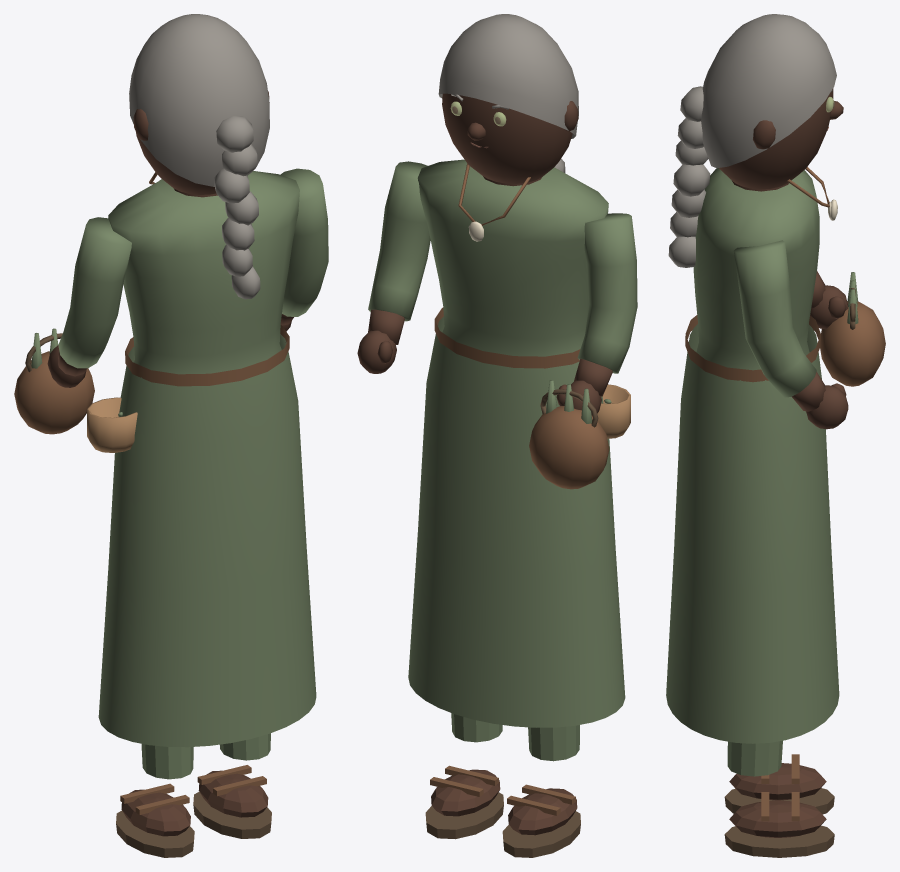
Rendered from SM_NPC_ALGA.glb.
The picture shows the model from 3 angles, left to right: view 1: azimuth 30°, elevation 25°; view 2: azimuth 150°, elevation 25°; view 3: azimuth 270°, elevation 25°; orthographic projection.
Visible parts, largest first — view 1: SM_NPC_ALGA_BODY, SM_NPC_ALGA_HAIR, SM_NPC_ALGA_ARM_L, SM_NPC_ALGA_LEG_L, SM_NPC_ALGA_LEG_R, SM_NPC_ALGA_ARM_R, SM_NPC_ALGA_HEAD; view 2: SM_NPC_ALGA_BODY, SM_NPC_ALGA_ARM_L, SM_NPC_ALGA_HAIR, SM_NPC_ALGA_ARM_R, SM_NPC_ALGA_HEAD, SM_NPC_ALGA_LEG_L, SM_NPC_ALGA_LEG_R; view 3: SM_NPC_ALGA_BODY, SM_NPC_ALGA_HAIR, SM_NPC_ALGA_ARM_R, SM_NPC_ALGA_LEG_R, SM_NPC_ALGA_ARM_L, SM_NPC_ALGA_HEAD, SM_NPC_ALGA_LEG_L.
Part boxes in pixels (x1=…): SM_NPC_ALGA_BODY: x1=87, y1=171, x2=316, y2=747; SM_NPC_ALGA_HAIR: x1=129, y1=14, x2=269, y2=299; SM_NPC_ALGA_ARM_L: x1=14, y1=217, x2=131, y2=434; SM_NPC_ALGA_LEG_L: x1=116, y1=744, x2=194, y2=857; SM_NPC_ALGA_LEG_R: x1=193, y1=733, x2=271, y2=838; SM_NPC_ALGA_ARM_R: x1=280, y1=168, x2=328, y2=331; SM_NPC_ALGA_HEAD: x1=133, y1=91, x2=269, y2=194; SM_NPC_ALGA_BODY: x1=408, y1=159, x2=630, y2=727; SM_NPC_ALGA_ARM_L: x1=529, y1=213, x2=637, y2=489; SM_NPC_ALGA_HAIR: x1=438, y1=14, x2=578, y2=172; SM_NPC_ALGA_ARM_R: x1=357, y1=161, x2=430, y2=373; SM_NPC_ALGA_HEAD: x1=442, y1=93, x2=578, y2=183; SM_NPC_ALGA_LEG_L: x1=502, y1=725, x2=580, y2=857; SM_NPC_ALGA_LEG_R: x1=425, y1=713, x2=503, y2=839; SM_NPC_ALGA_BODY: x1=666, y1=167, x2=839, y2=743; SM_NPC_ALGA_HAIR: x1=668, y1=14, x2=836, y2=267; SM_NPC_ALGA_ARM_R: x1=733, y1=240, x2=848, y2=429; SM_NPC_ALGA_LEG_R: x1=724, y1=740, x2=834, y2=857; SM_NPC_ALGA_ARM_L: x1=810, y1=271, x2=885, y2=386; SM_NPC_ALGA_HEAD: x1=719, y1=88, x2=843, y2=189; SM_NPC_ALGA_LEG_L: x1=724, y1=754, x2=834, y2=814.
Size of the model in its own units: 0.5878 by 1.71 by 0.4228.
